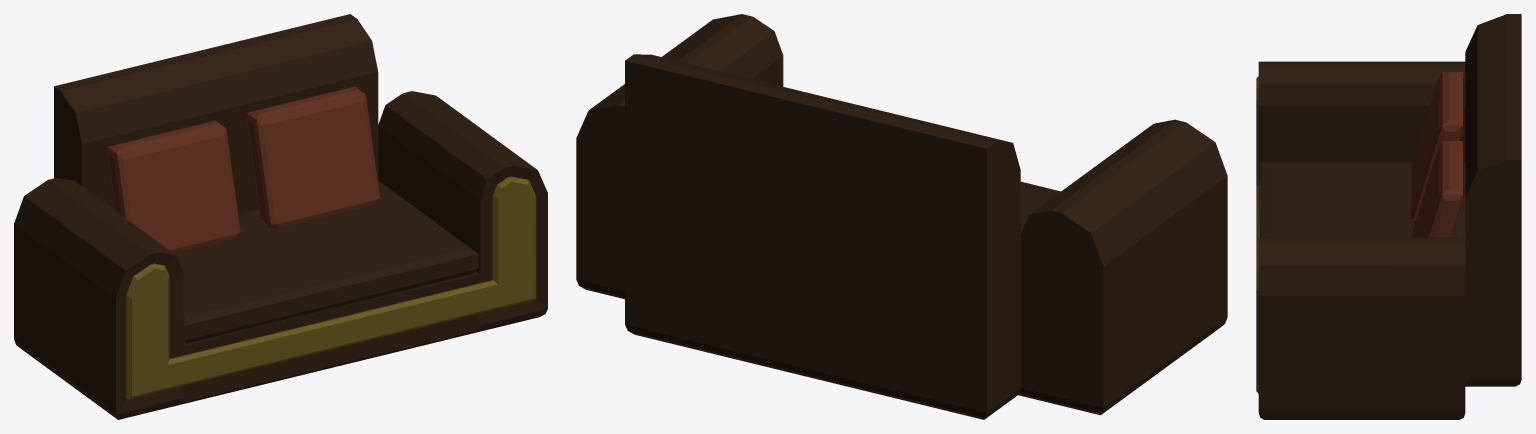
File: MOD_Sofa.fbx
3 views of the same model, side by side, from view 1: azimuth 30°, elevation 25°; view 2: azimuth 150°, elevation 25°; view 3: azimuth 270°, elevation 25° (orthographic). The views are drawn at different scales.
Parts seen in each view (by area): view 1: Sofa; view 2: Sofa; view 3: Sofa.
Boxes of the visible parts, box(x1,y1,x2,y2) form: Sofa: box(14, 14, 547, 419); Sofa: box(576, 14, 1227, 419); Sofa: box(1256, 14, 1521, 419).
Bounding box in the file's own units: 1464 × 735 × 769.
